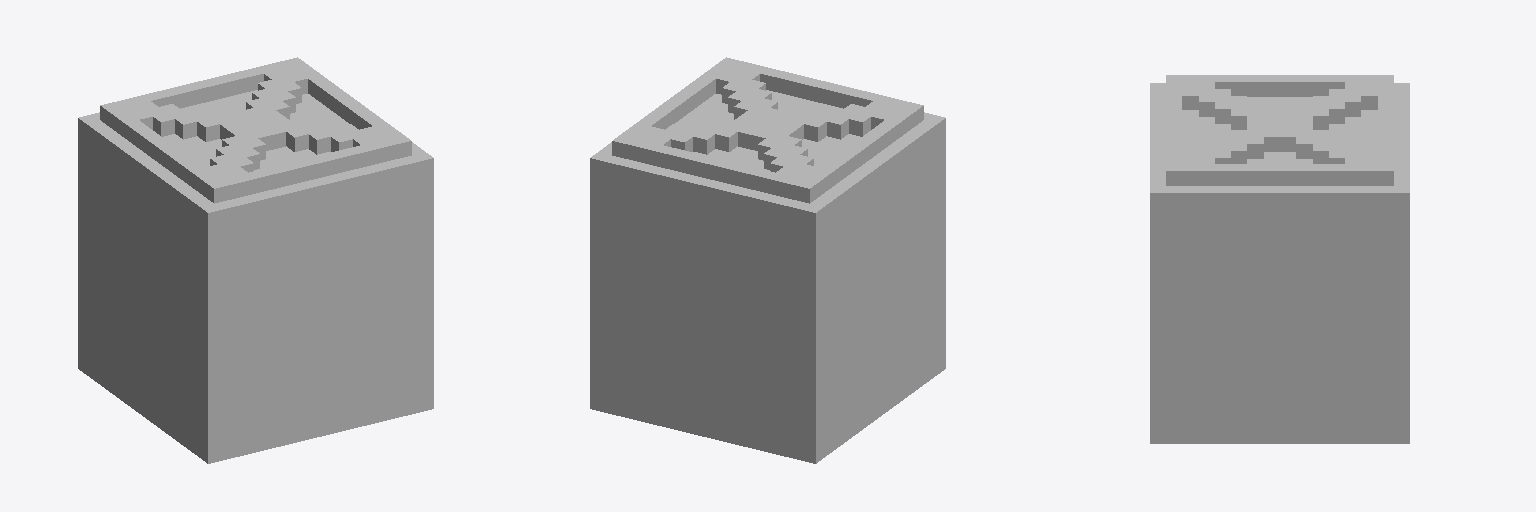
The model's file is path water.obj.
3 renders of one model, left to right at view 1: azimuth 30°, elevation 25°; view 2: azimuth 150°, elevation 25°; view 3: azimuth 270°, elevation 25°, orthographic.
Parts seen in each view (by area): view 1: object 1; view 2: object 1; view 3: object 1.
Boxes of the visible parts, <box> form: object 1: <box>78,57,433,463</box>; object 1: <box>590,57,945,463</box>; object 1: <box>1150,75,1409,443</box>.
Bounding box in the file's own units: 1.6 × 1.8 × 1.6.